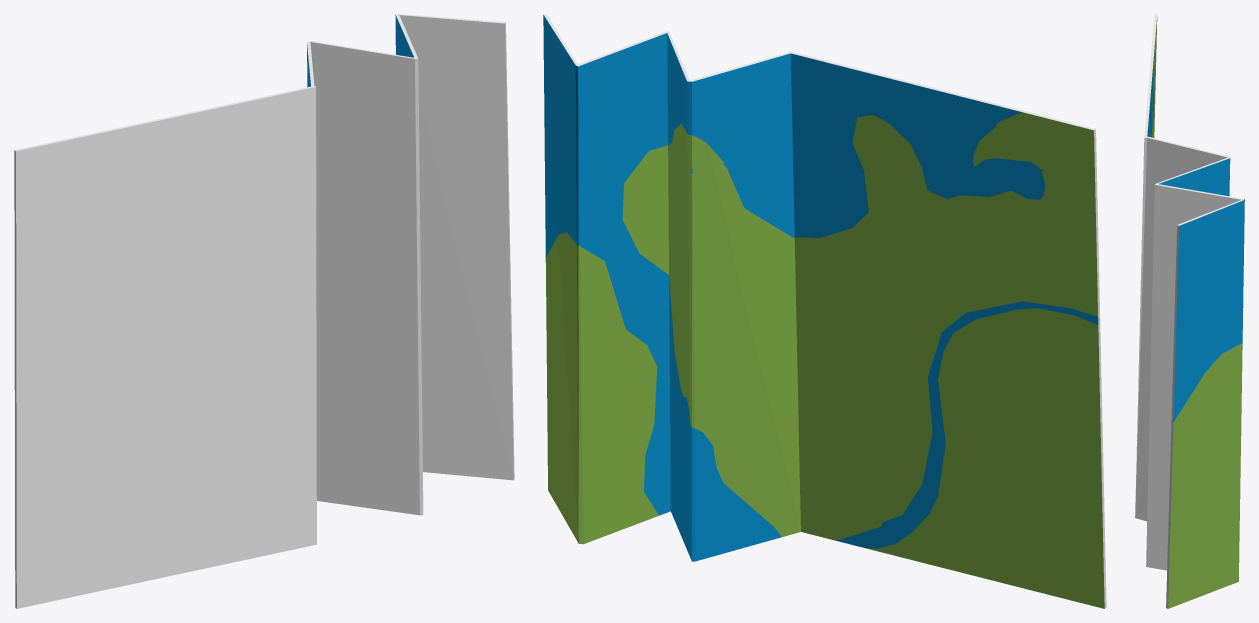
Rendered from mapa.glb.
The picture shows the model from 3 angles, left to right: view 1: azimuth 30°, elevation 25°; view 2: azimuth 150°, elevation 25°; view 3: azimuth 270°, elevation 25°; orthographic projection. The views are drawn at different scales.
Visible parts, largest first — view 1: group18465996; view 2: group18465996; view 3: group18465996.
Boxes of the visible parts, bbox=[...] form: group18465996: bbox=[14, 14, 514, 608]; group18465996: bbox=[543, 14, 1106, 608]; group18465996: bbox=[1135, 14, 1244, 608].
Bounding box in the file's own units: 2.77 × 2.38 × 0.61.
